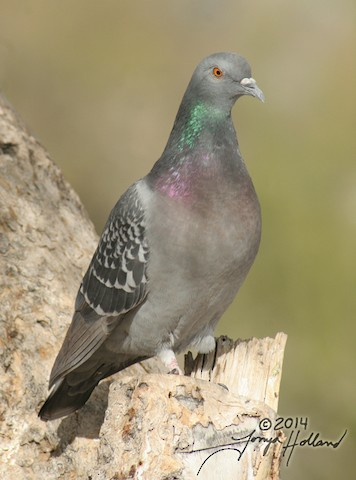pigeon: (33, 38, 274, 425)
